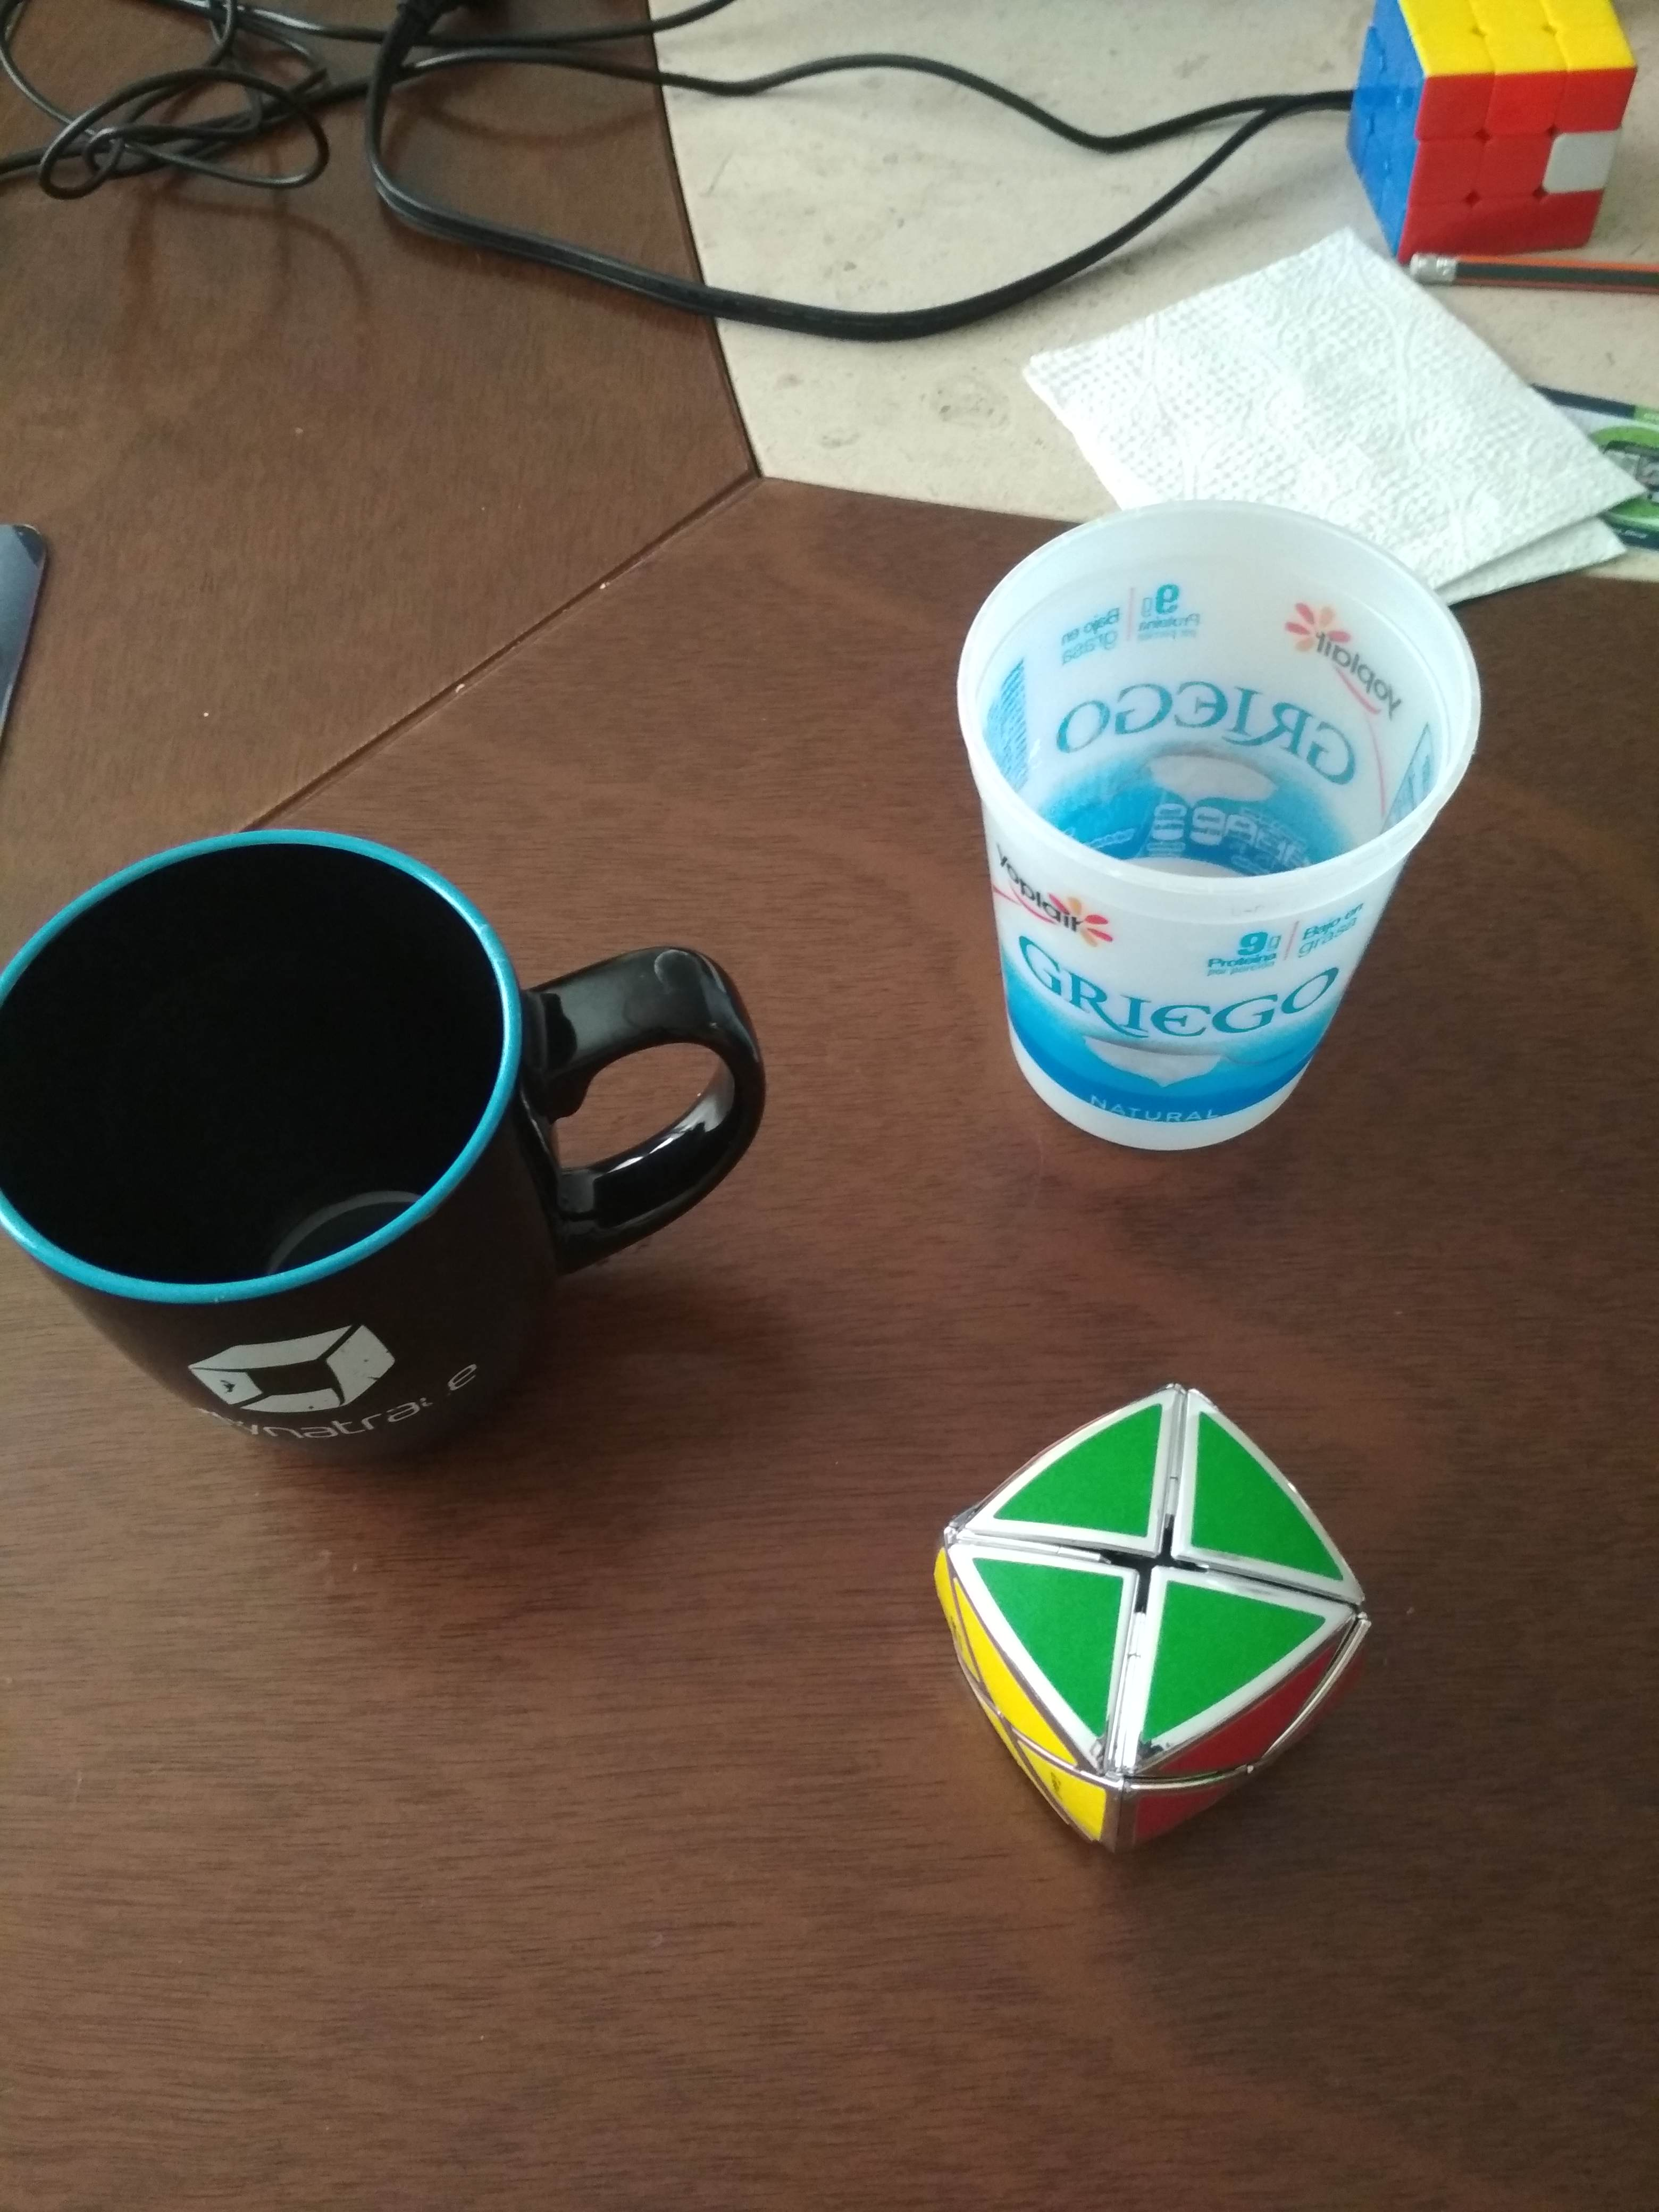cup: (0, 803, 793, 1498)
glass: (932, 482, 1504, 1186)
rubik_cube: (908, 1360, 1398, 1883), (1335, 0, 1645, 287)
